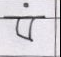anusvara: (24, 3, 28, 7)
